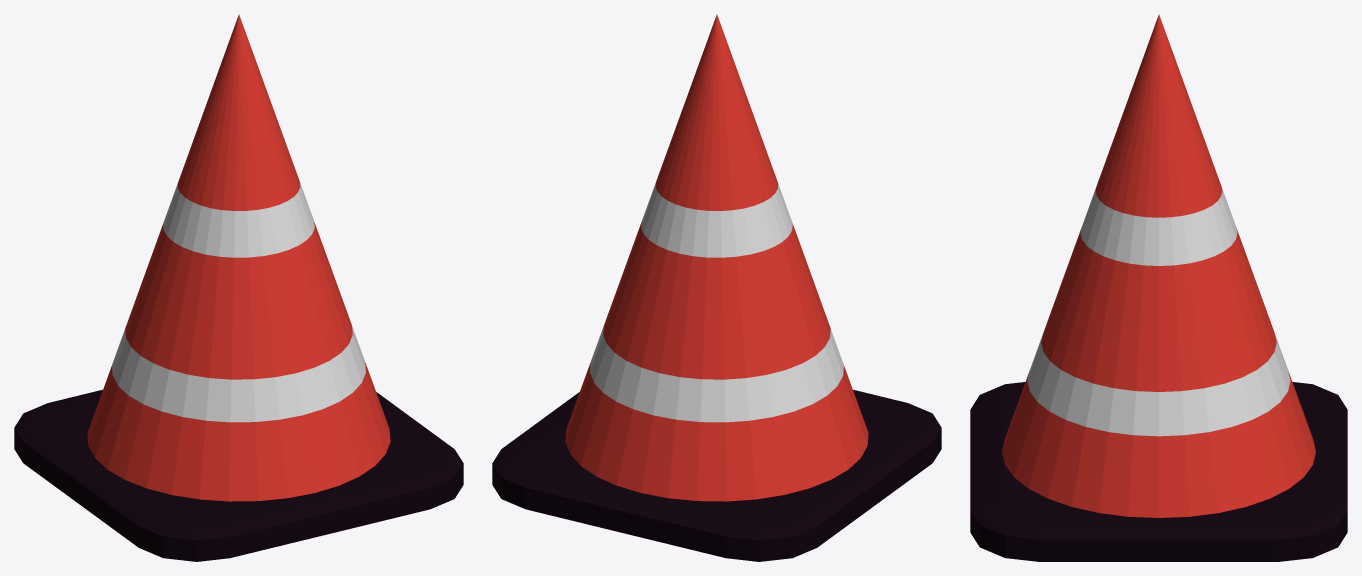
3 views of the same model, side by side, from view 1: azimuth 30°, elevation 25°; view 2: azimuth 150°, elevation 25°; view 3: azimuth 270°, elevation 25° (orthographic). The views are drawn at different scales.
Parts seen in each view (by area): view 1: Cone, Cube; view 2: Cone, Cube; view 3: Cone, Cube.
Part boxes in pixels (box(x1,y1,x2,y2)): Cone: box(87, 14, 390, 501); Cube: box(14, 389, 463, 561); Cone: box(565, 14, 868, 501); Cube: box(492, 389, 941, 561); Cone: box(1002, 14, 1315, 517); Cube: box(970, 382, 1347, 561).
Size of the model in its own units: 2 by 2.78 by 2.
